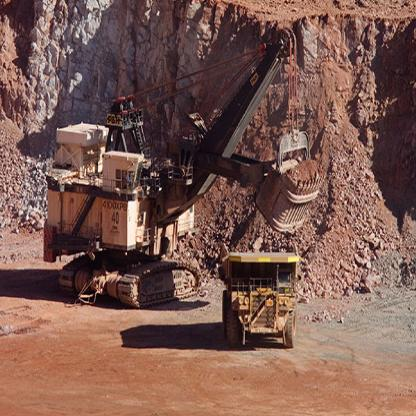dump_truck: (216, 232, 301, 350)
